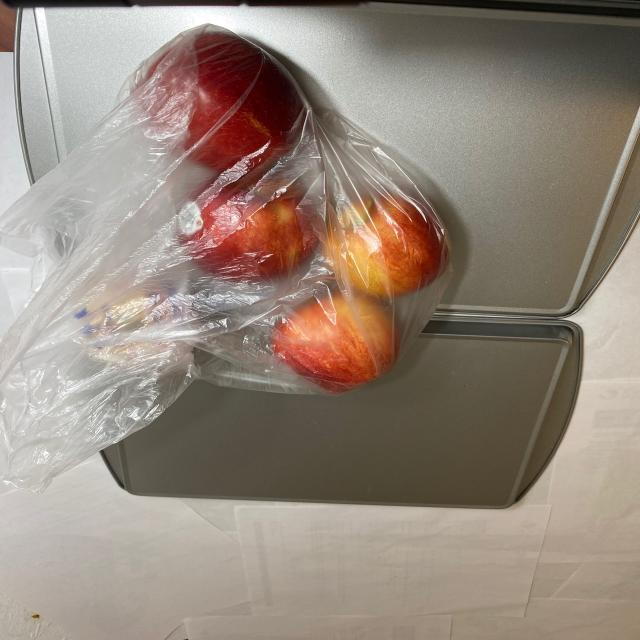apple: (74, 37, 458, 406)
